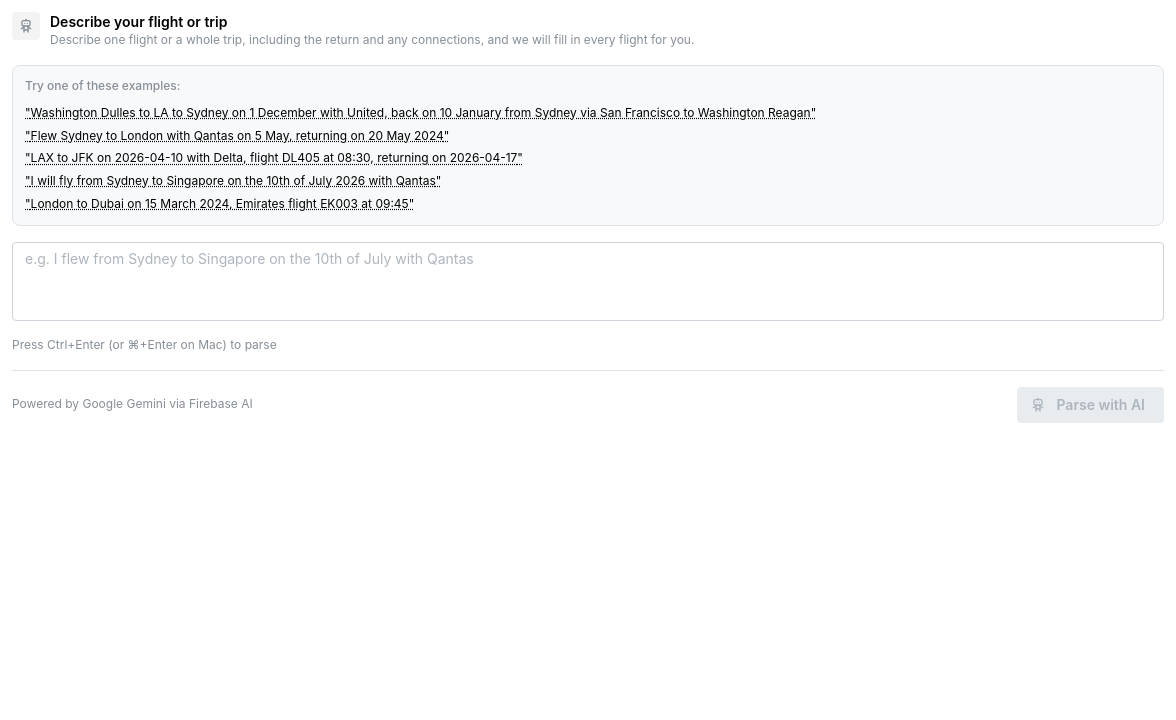
Test: FlightChatInput › shows the 'Review and save' button after a successful parse
Type "any text" into the text box at (588, 281), box [12,242,1164,321]
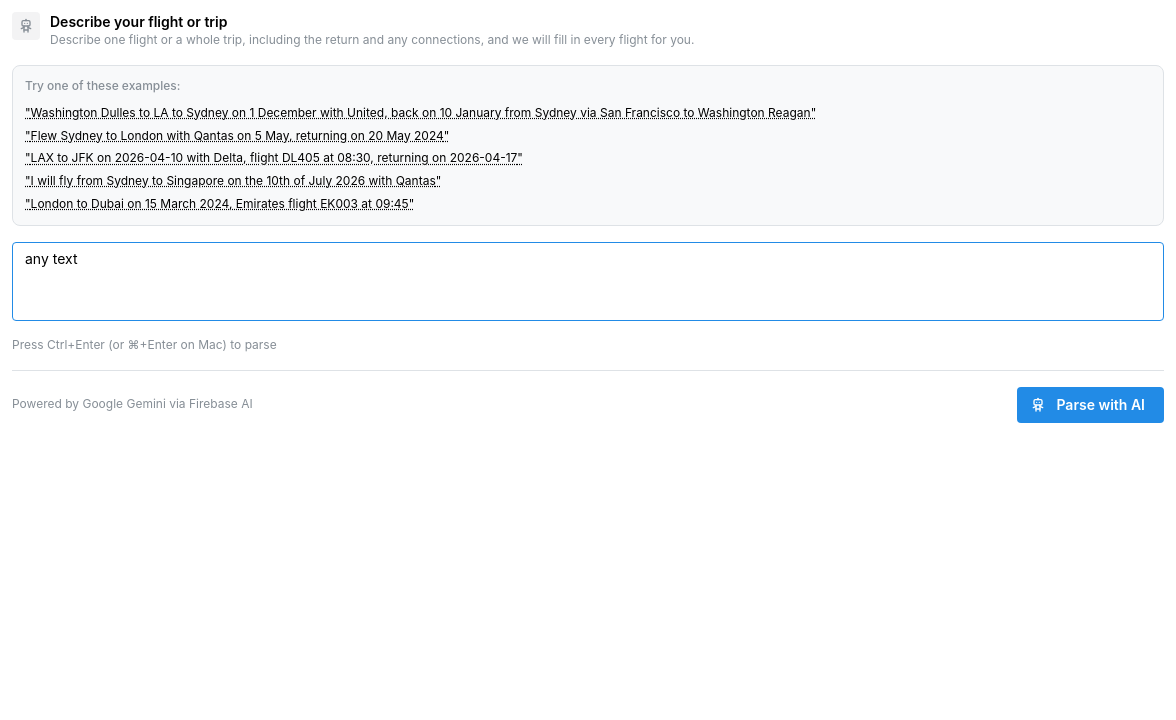
Click the button "Parse with AI" at (1091, 405), box [1018,387,1164,423]
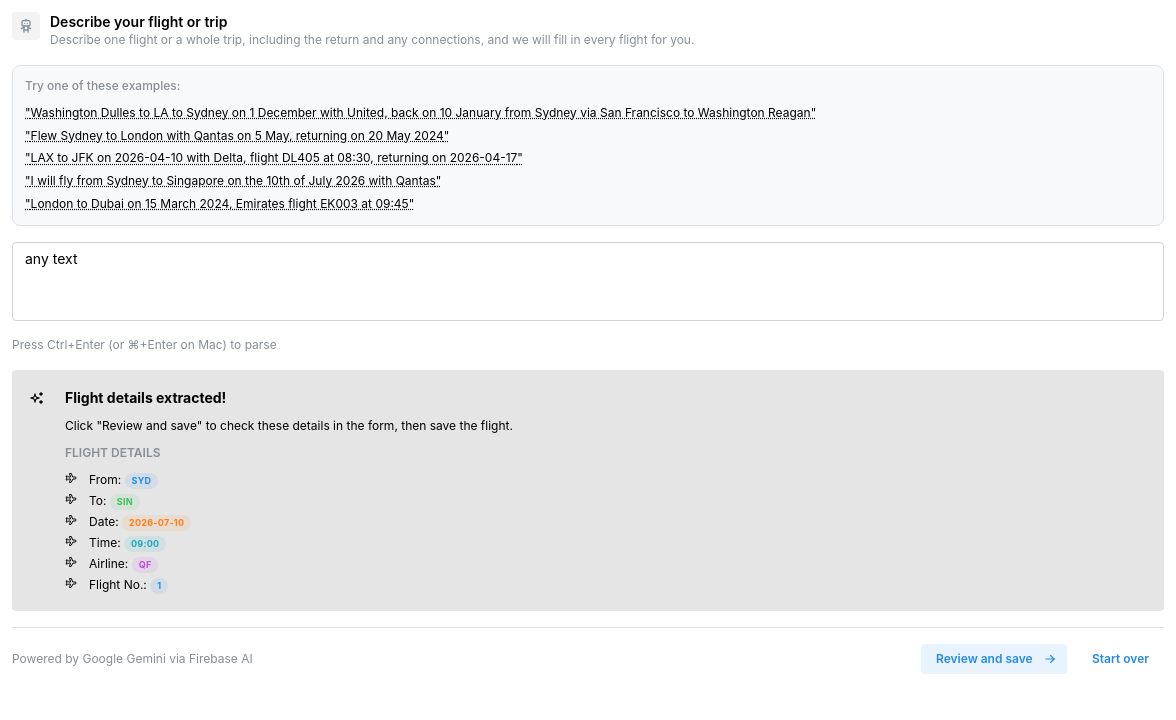
Now the button "Review and save" is shown, box [921,644,1067,674]
